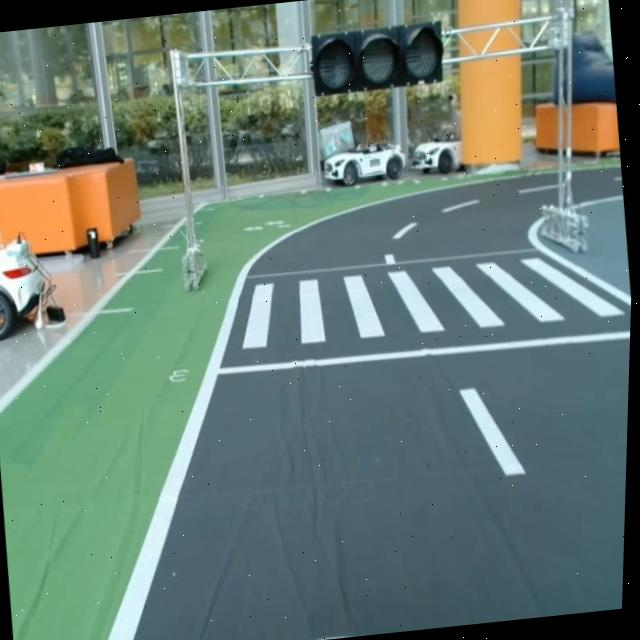traffic-light: (303, 18, 446, 96)
